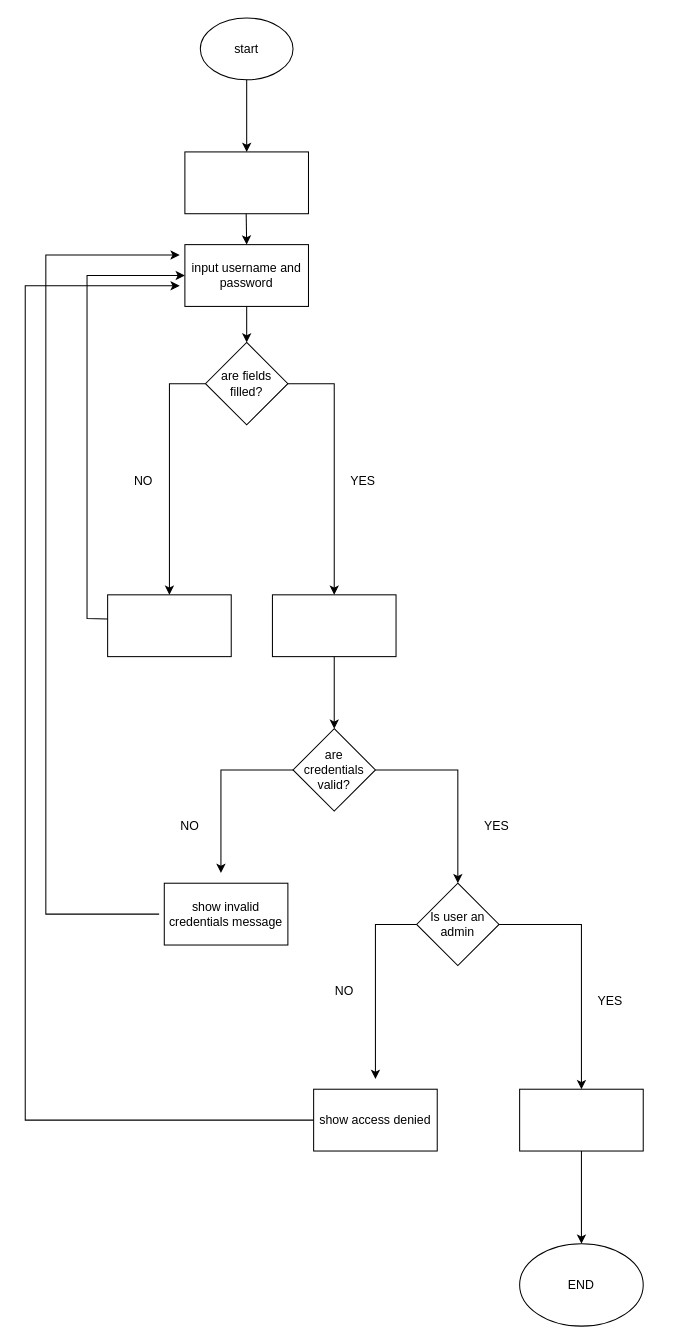
Some shapes in this 692 by 1344 pixel diagram are drawn without their labels. The box of each missing label's shape, as (x1, y1, x2, y2) in pixels:
display login screen: (184, 151, 308, 214)
Grant access to admin dashboard: (519, 1088, 643, 1151)
show error message: (107, 594, 231, 657)
validate username and password with database: (271, 594, 396, 657)
